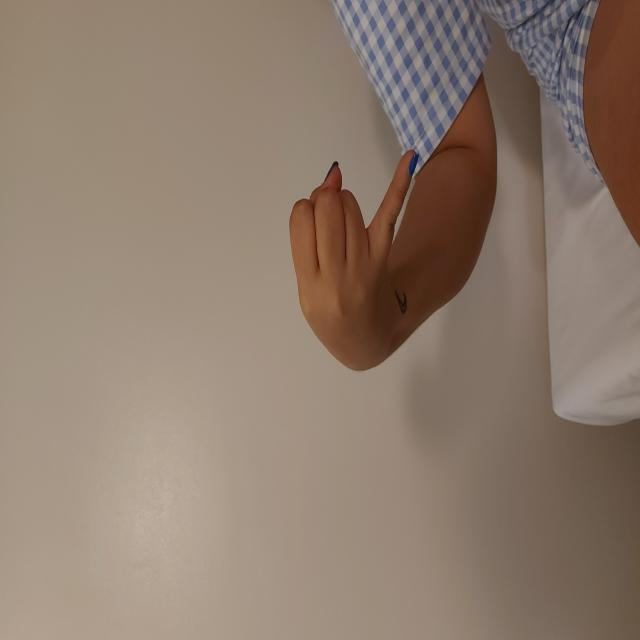J: (270, 288, 494, 418)
